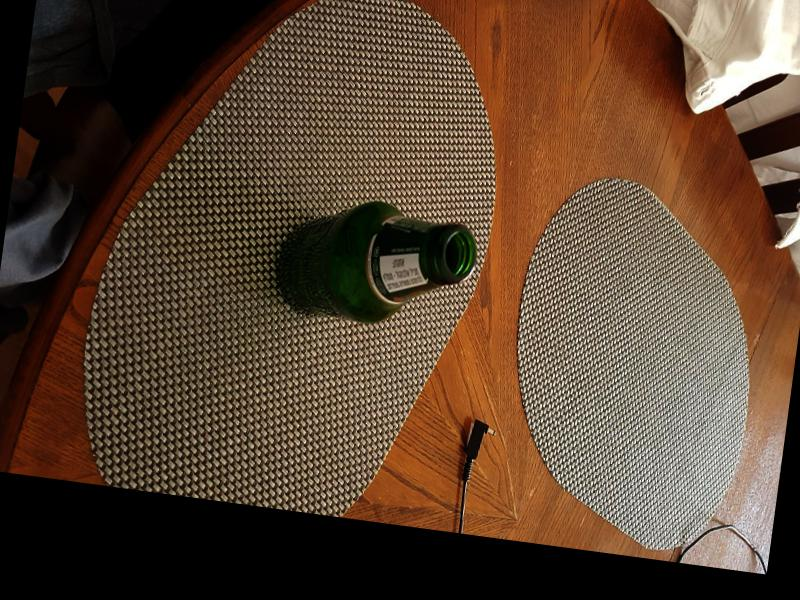Beer: (270, 187, 479, 334)
